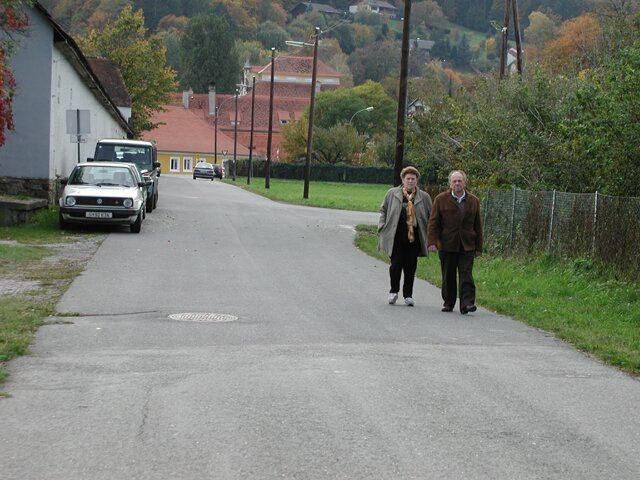person: (430, 165, 493, 317), (377, 163, 432, 314)
